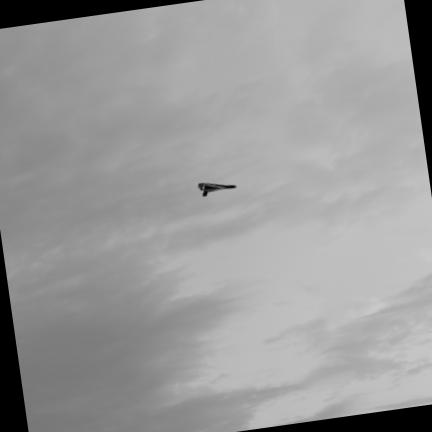Shahed: (198, 182, 235, 196)
